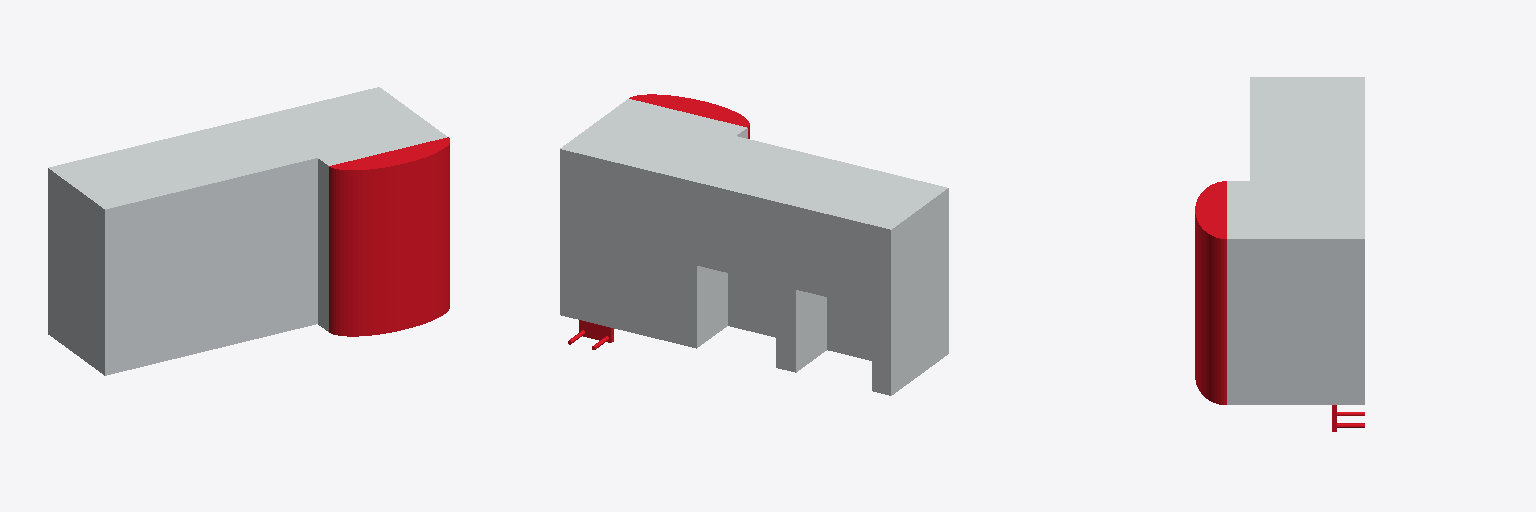
The model's file is tinker.obj.
3 renders of one model, left to right at view 1: azimuth 30°, elevation 25°; view 2: azimuth 150°, elevation 25°; view 3: azimuth 270°, elevation 25°, orthographic.
Parts seen in each view (by area): view 1: obj_0; view 2: obj_0; view 3: obj_0.
Boxes of the visible parts, x1,y1,x2,y2 form: obj_0: [48, 87, 449, 375]; obj_0: [560, 94, 948, 395]; obj_0: [1195, 77, 1364, 431].
Size of the model in its own units: 83.5 by 47 by 37.